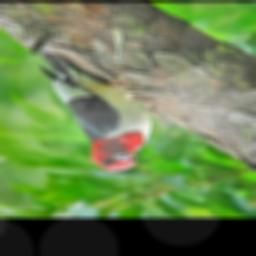Woodpecker: (32, 52, 173, 172)
